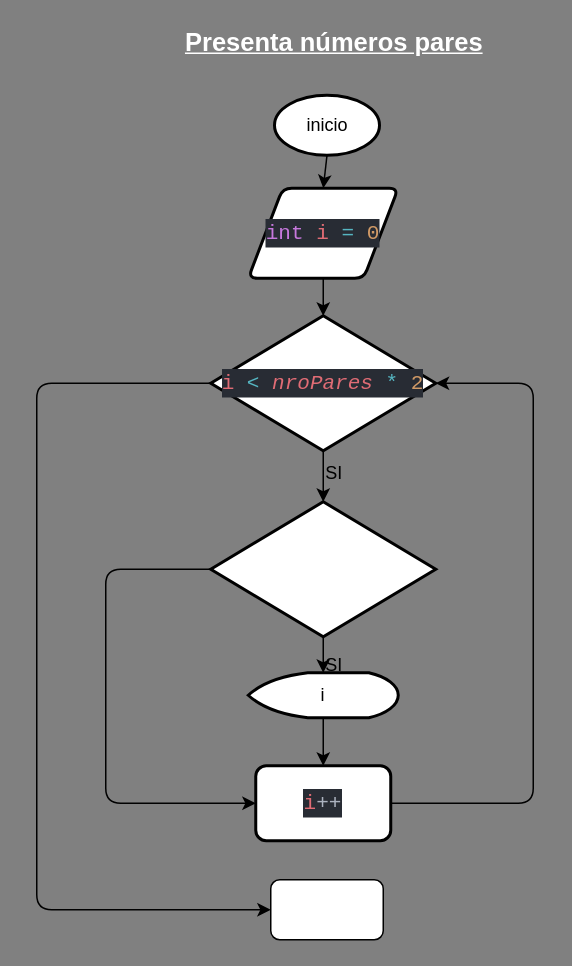
The diagram is 572 pixels wide and 966 high, and some of its shapes have lost their labels. Here are the shapes that lost their labels. From the top down, the centre of each, then its label:
At point (322, 569): "i % 2 == 0".
At point (326, 909): "FIN".
